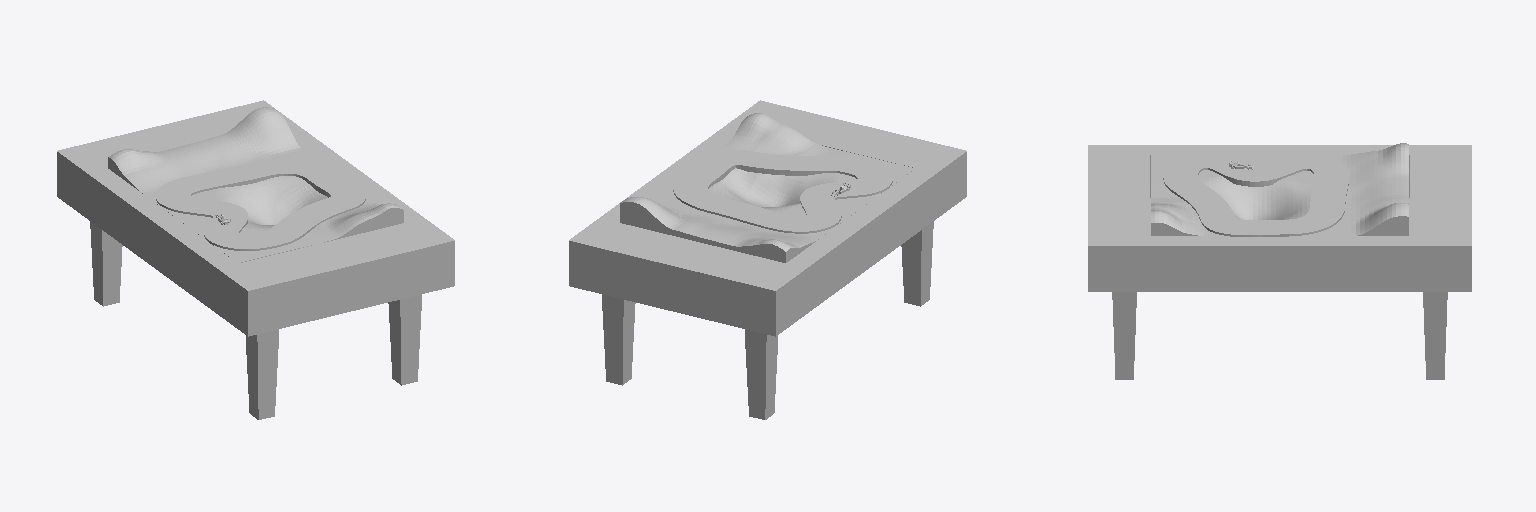
Rendered from NewestTisch73.obj.
3 views of the same model, side by side, from view 1: azimuth 30°, elevation 25°; view 2: azimuth 150°, elevation 25°; view 3: azimuth 270°, elevation 25° (orthographic).
Visible parts, largest first — view 1: Tischplatte_wood_table_001, Landschaft_aerial_grass_rock, off, Bein1_wood_table_001, Bein4_wood_table_001.003, Bein3_wood_table_001.002; view 2: Tischplatte_wood_table_001, Landschaft_aerial_grass_rock, off, Bein2_wood_table_001.001, Bein3_wood_table_001.002, Bein4_wood_table_001.003; view 3: Tischplatte_wood_table_001, Landschaft_aerial_grass_rock, off, Bein1_wood_table_001, Bein2_wood_table_001.001.
Part boxes in pixels (x1,y1,x2,y2): Tischplatte_wood_table_001: (57,100,454,336); Landschaft_aerial_grass_rock: (108,107,403,262); off: (156,159,365,250); Bein1_wood_table_001: (388,294,421,385); Bein4_wood_table_001.003: (246,329,278,419); Bein3_wood_table_001.002: (90,221,122,306); Tischplatte_wood_table_001: (569,100,966,336); Landschaft_aerial_grass_rock: (620,113,915,262); off: (673,150,892,233); Bein2_wood_table_001.001: (602,294,635,385); Bein3_wood_table_001.002: (745,329,777,419); Bein4_wood_table_001.003: (901,221,933,306); Tischplatte_wood_table_001: (1088,145,1471,291); Landschaft_aerial_grass_rock: (1151,143,1408,235); off: (1163,153,1348,236); Bein1_wood_table_001: (1112,292,1136,379); Bein2_wood_table_001.001: (1423,292,1447,379).
Bounding box in the file's own units: 5 × 3.91 × 8.